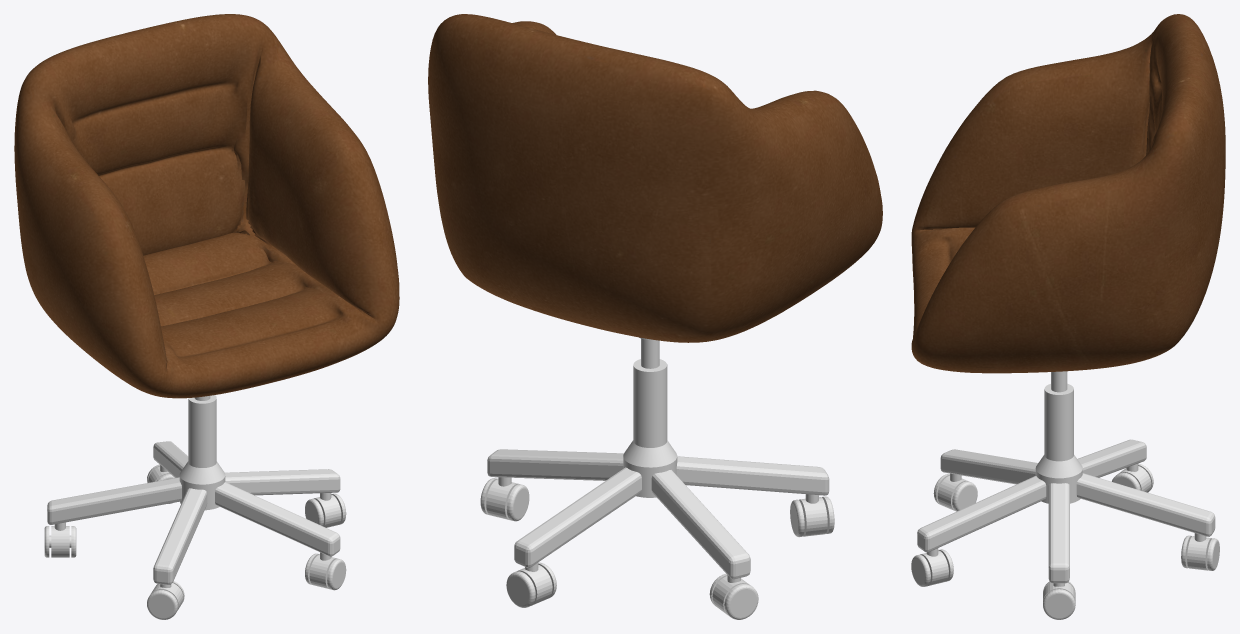
File: DeskChair.glb
3 views of the same model, side by side, from view 1: azimuth 30°, elevation 25°; view 2: azimuth 150°, elevation 25°; view 3: azimuth 270°, elevation 25° (orthographic). The views are drawn at different scales.
Visible parts, largest first — view 1: DeskChair; view 2: DeskChair; view 3: DeskChair.
Boxes of the visible parts, x1,y1,x2,y2 form: DeskChair: [14, 14, 399, 619]; DeskChair: [428, 14, 882, 619]; DeskChair: [911, 14, 1225, 619].
Bounding box in the file's own units: 6.58 × 9.62 × 5.57.
3 materials, 1 textured.
